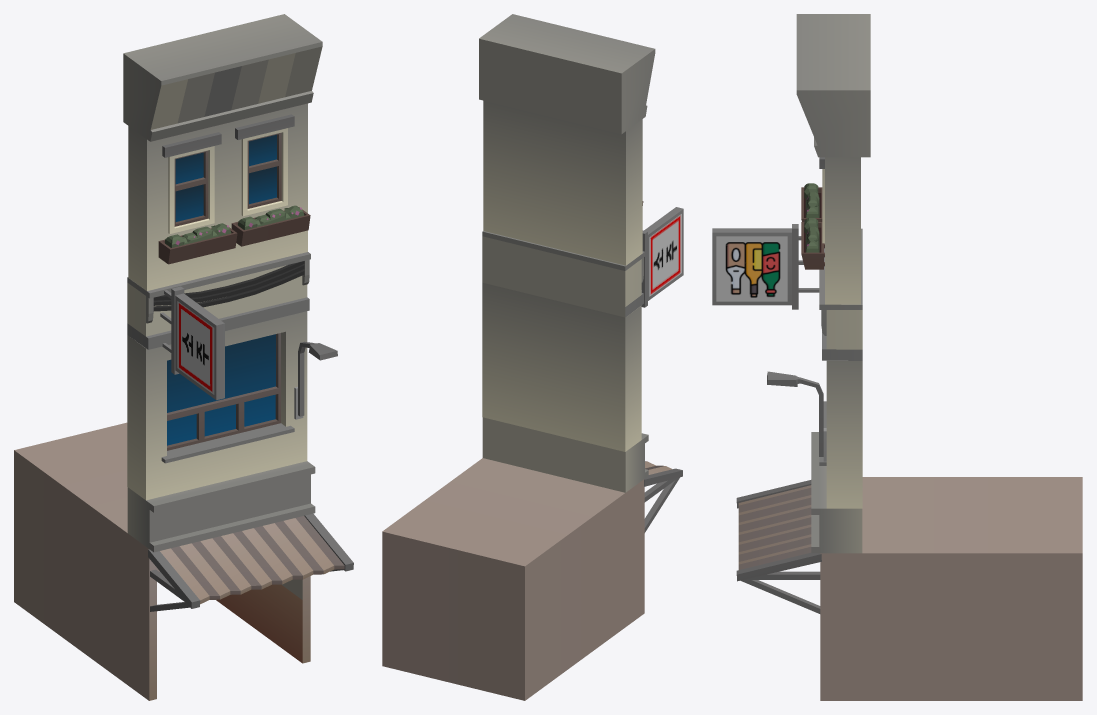
Rendered from B02_Facade_04_A 1.fbx.
The picture shows the model from 3 angles, left to right: view 1: azimuth 30°, elevation 25°; view 2: azimuth 150°, elevation 25°; view 3: azimuth 270°, elevation 25°; orthographic projection. The views are drawn at different scales.
Visible parts, largest first — view 1: B02_Facade_04_A; view 2: B02_Facade_04_A; view 3: B02_Facade_04_A.
Boxes of the visible parts, <box> form: B02_Facade_04_A: <box>14,14,353,700</box>; B02_Facade_04_A: <box>382,14,683,700</box>; B02_Facade_04_A: <box>712,14,1082,700</box>.
Bounding box in the file's own units: 502 × 1862 × 1024.
